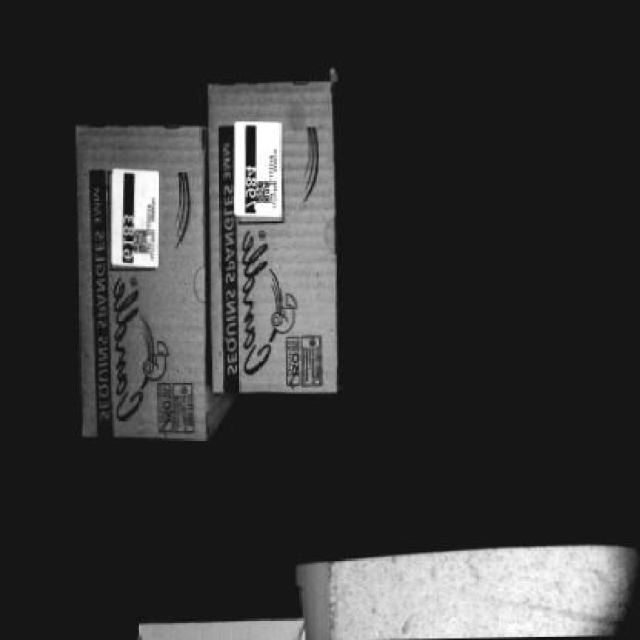cardboxes: (204, 74, 338, 397), (76, 128, 204, 440)
